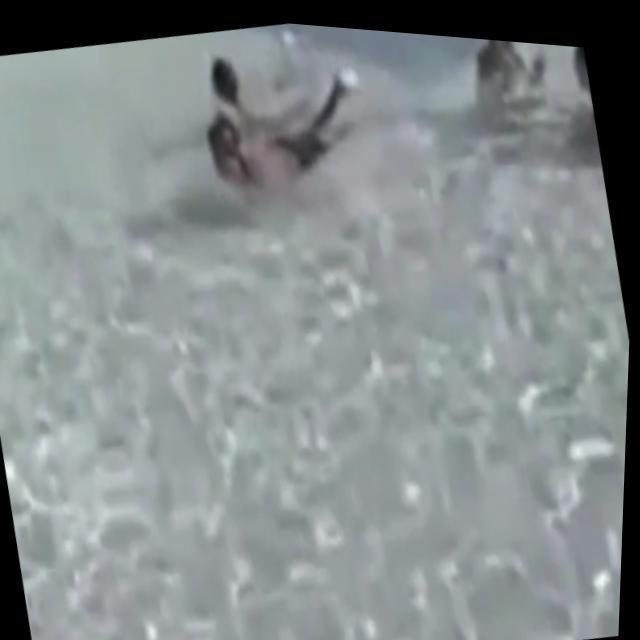swimming: (187, 54, 386, 191)
